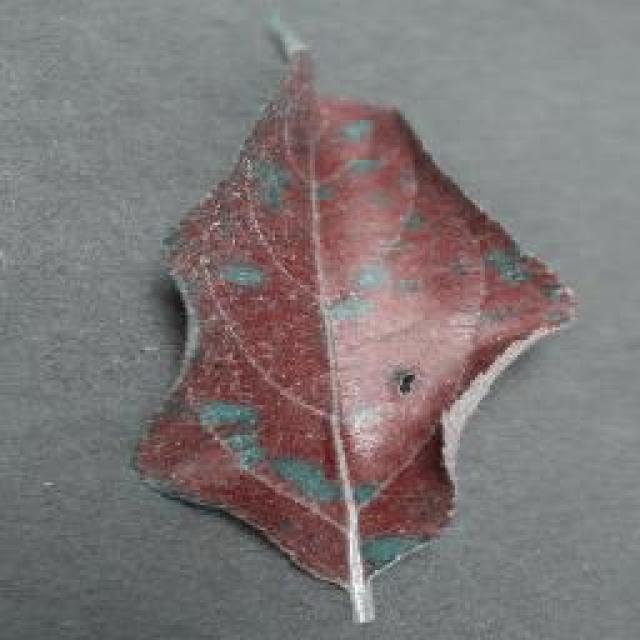apple cedar apple rust: (130, 12, 578, 622)
